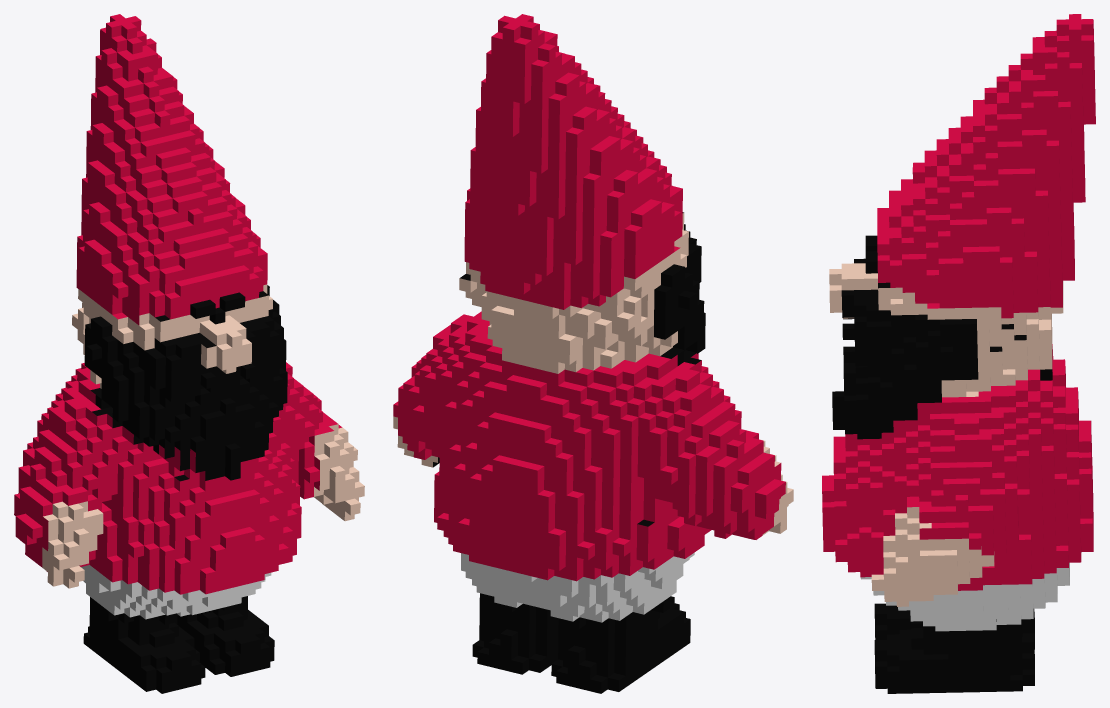
The model's file is RedHat.fbx.
The picture shows the model from 3 angles, left to right: view 1: azimuth 30°, elevation 25°; view 2: azimuth 150°, elevation 25°; view 3: azimuth 270°, elevation 25°; orthographic projection. The views are drawn at different scales.
Visible parts, largest first — view 1: RedHat; view 2: RedHat; view 3: RedHat.
Part boxes in pixels (x1,y1,x2,y2): RedHat: (14,14,364,693); RedHat: (393,14,793,693); RedHat: (822,14,1095,693).
Bounding box in the file's own units: 18.24 × 31.73 × 12.32.
